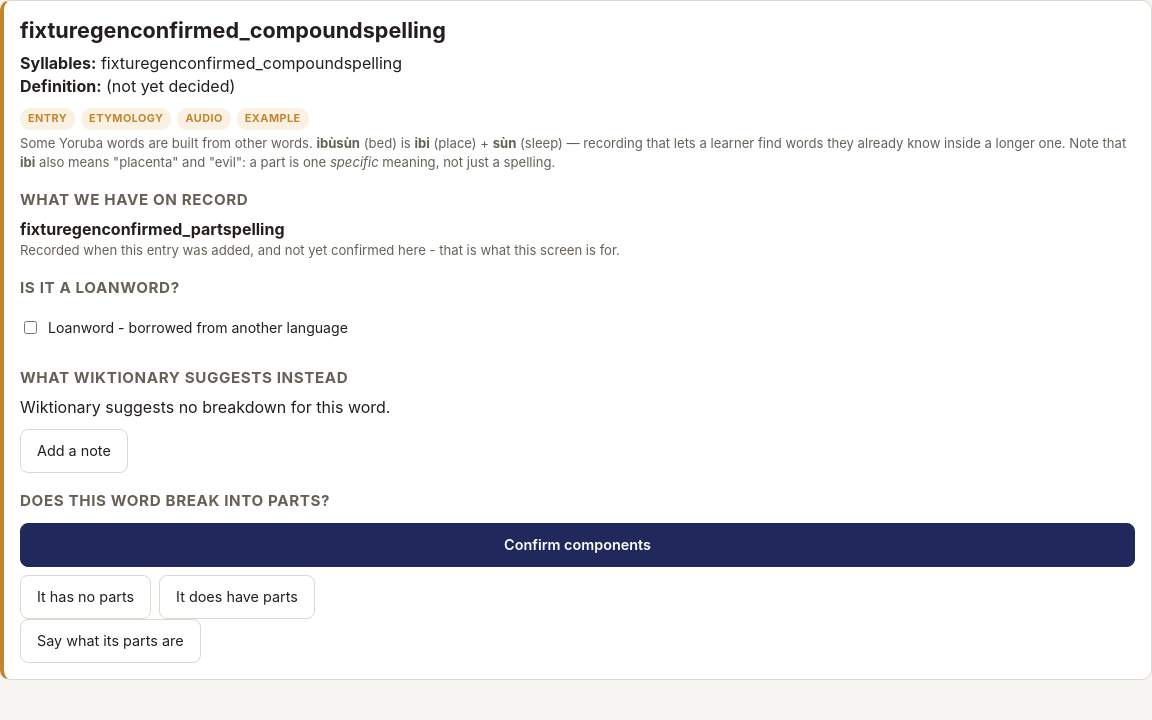
Test: EtymologyReview › enables Confirm components for a word with real existing components, and submits confirm_existing
Check: the heading "fixturegenconfirmed_compoundspelling" is shown, box [20,17,446,43]
Click the button "Confirm components".
click(578, 545)  # box [20,523,1135,567]
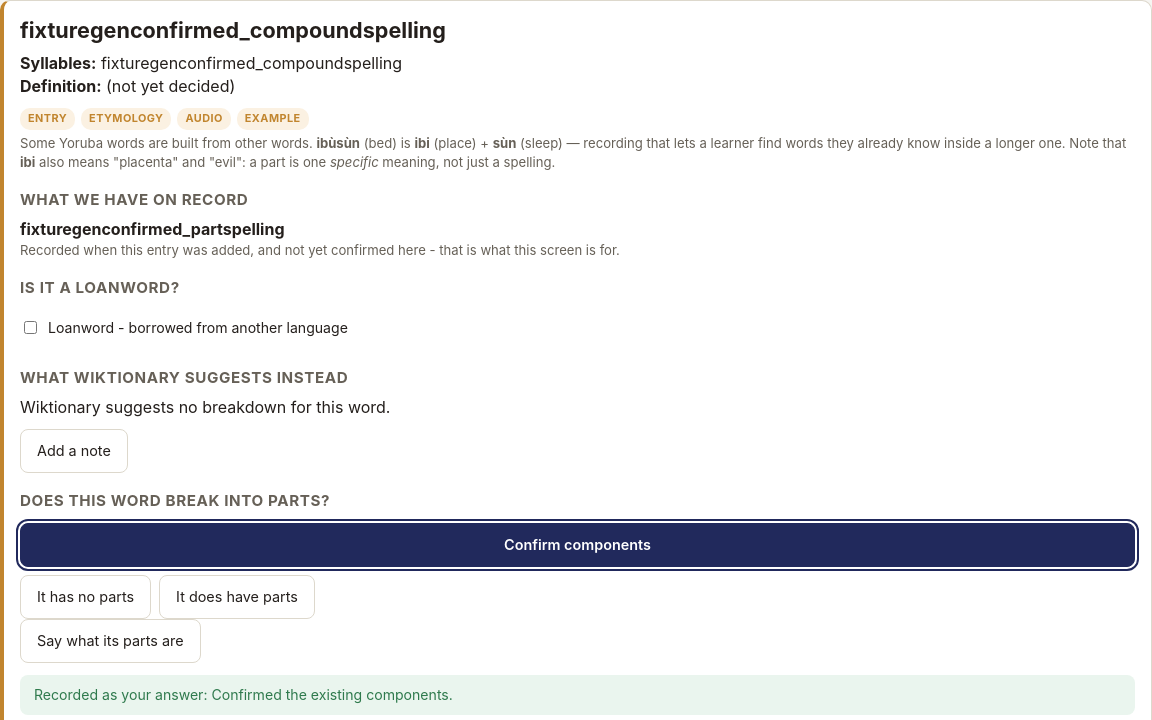
Check: the message shows "Confirmed the existing components.", box [34,686,453,703]
